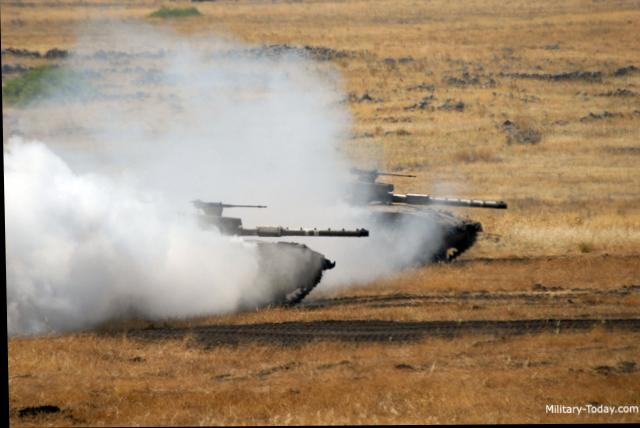tank: (64, 185, 377, 322), (252, 158, 499, 275)
